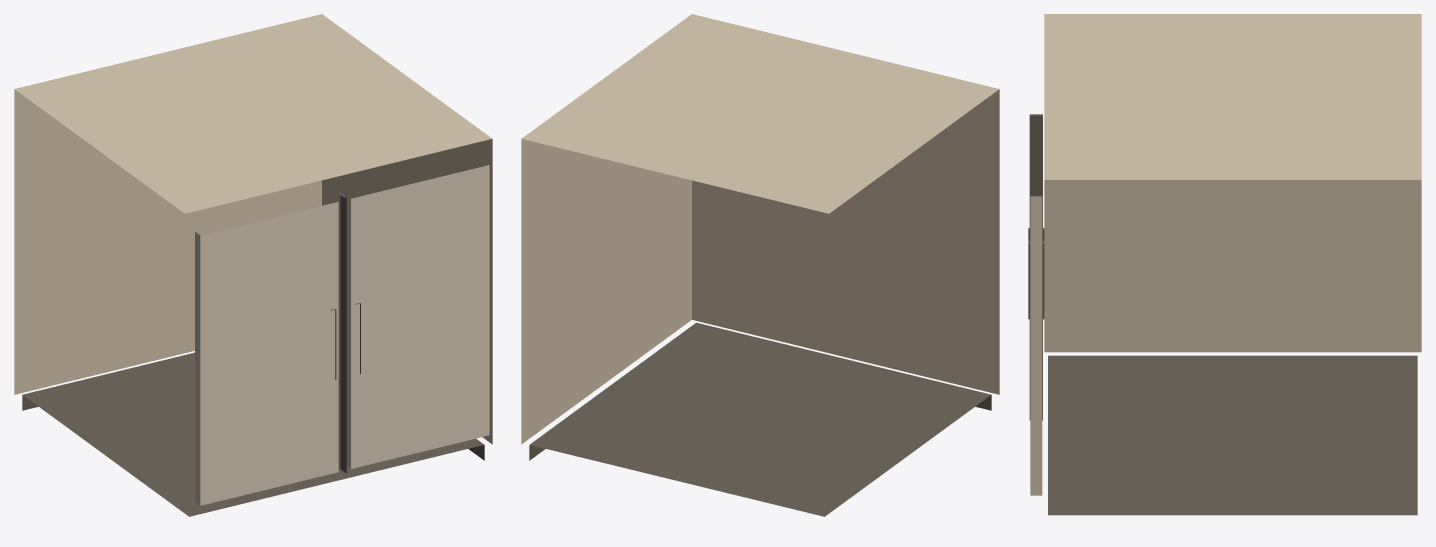
Rendered from Wardrobe-beige.glb.
The picture shows the model from 3 angles, left to right: view 1: azimuth 30°, elevation 25°; view 2: azimuth 150°, elevation 25°; view 3: azimuth 270°, elevation 25°; orthographic projection. The views are drawn at different scales.
Parts seen in each view (by area): view 1: Wardrobe; view 2: Wardrobe; view 3: Wardrobe.
Boxes of the visible parts, x1,y1,x2,y2 form: Wardrobe: [14, 14, 492, 516]; Wardrobe: [521, 14, 999, 516]; Wardrobe: [1028, 14, 1421, 515].
Bounding box in the file's own units: 1 × 1 × 1.
